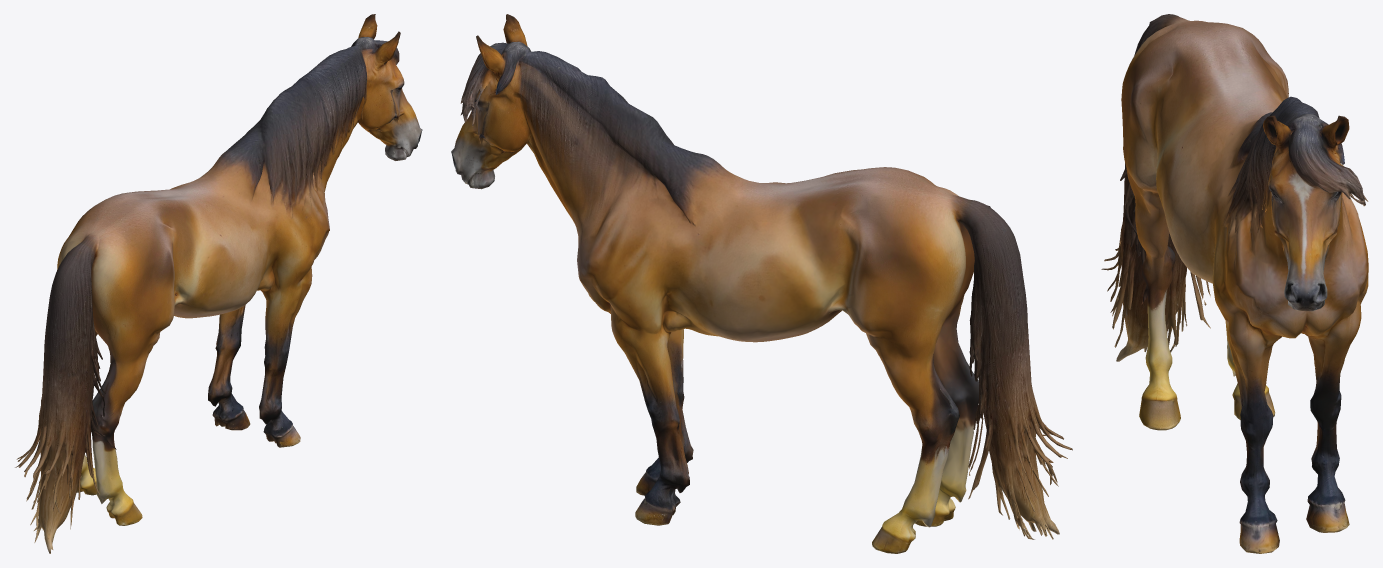
The model's file is tripo_convert_86d8acfb-4871-4045-b435-3de51bd11412.fbx.
3 renders of one model, left to right at view 1: azimuth 30°, elevation 25°; view 2: azimuth 150°, elevation 25°; view 3: azimuth 270°, elevation 25°, orthographic. The views are drawn at different scales.
Visible parts, largest first — view 1: tripo_node_86d8acfb; view 2: tripo_node_86d8acfb; view 3: tripo_node_86d8acfb.
Boxes of the visible parts, left/top/right/bottom form: tripo_node_86d8acfb: left=15, top=14, right=422, bottom=553; tripo_node_86d8acfb: left=451, top=14, right=1072, bottom=553; tripo_node_86d8acfb: left=1101, top=14, right=1368, bottom=553.
Size of the model in its own units: 100 by 37.7 by 79.9.
